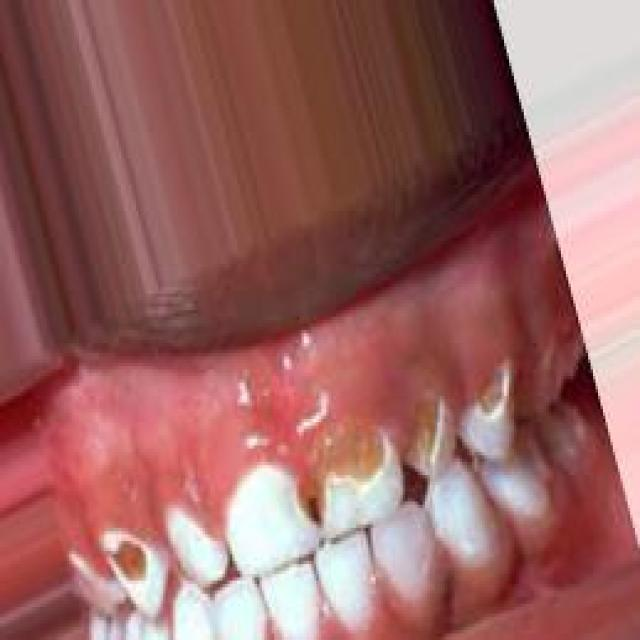caries: (466, 358, 532, 466), (304, 412, 388, 486), (407, 395, 459, 489), (99, 522, 157, 602), (291, 466, 334, 532)
